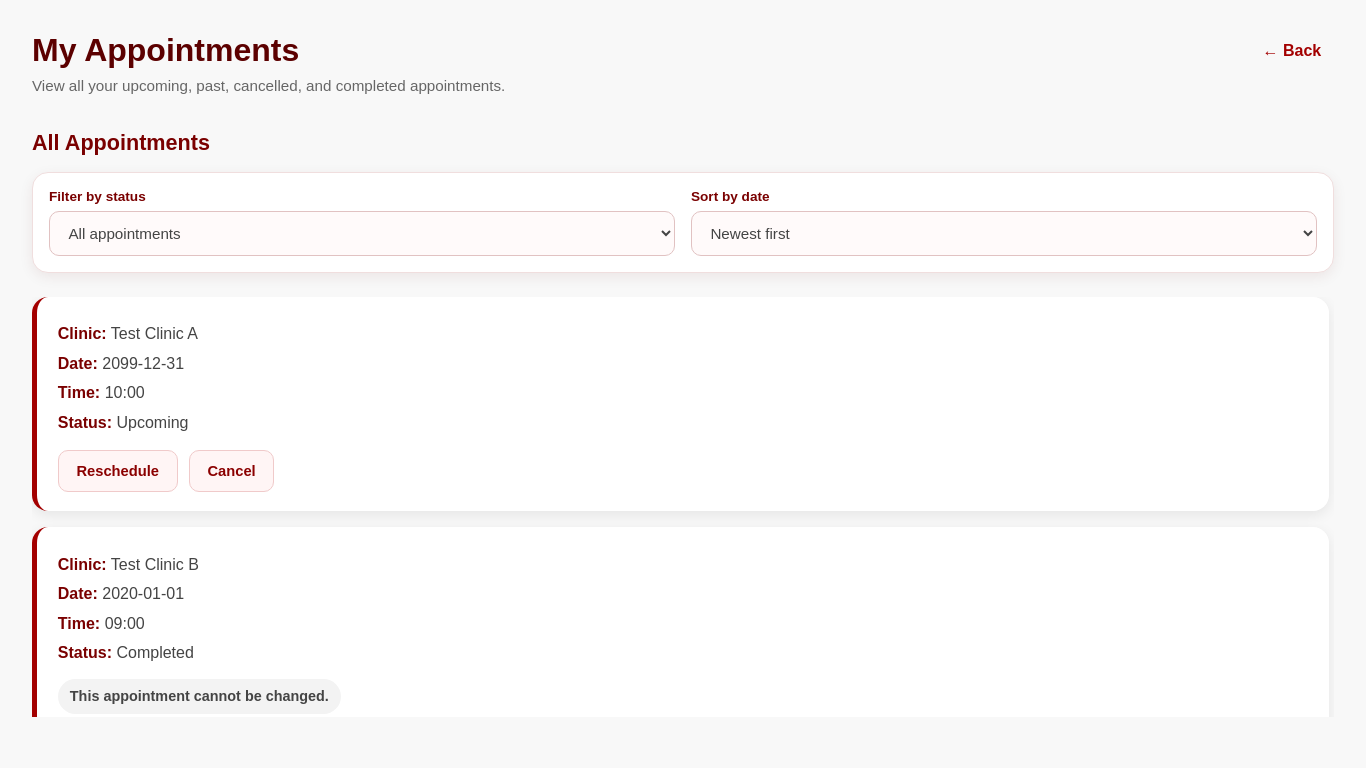
Test: AppointmentsPage › cancel modal closes when overlay is clicked
Click the button "Cancel" at (232, 471), box [189, 450, 274, 492]
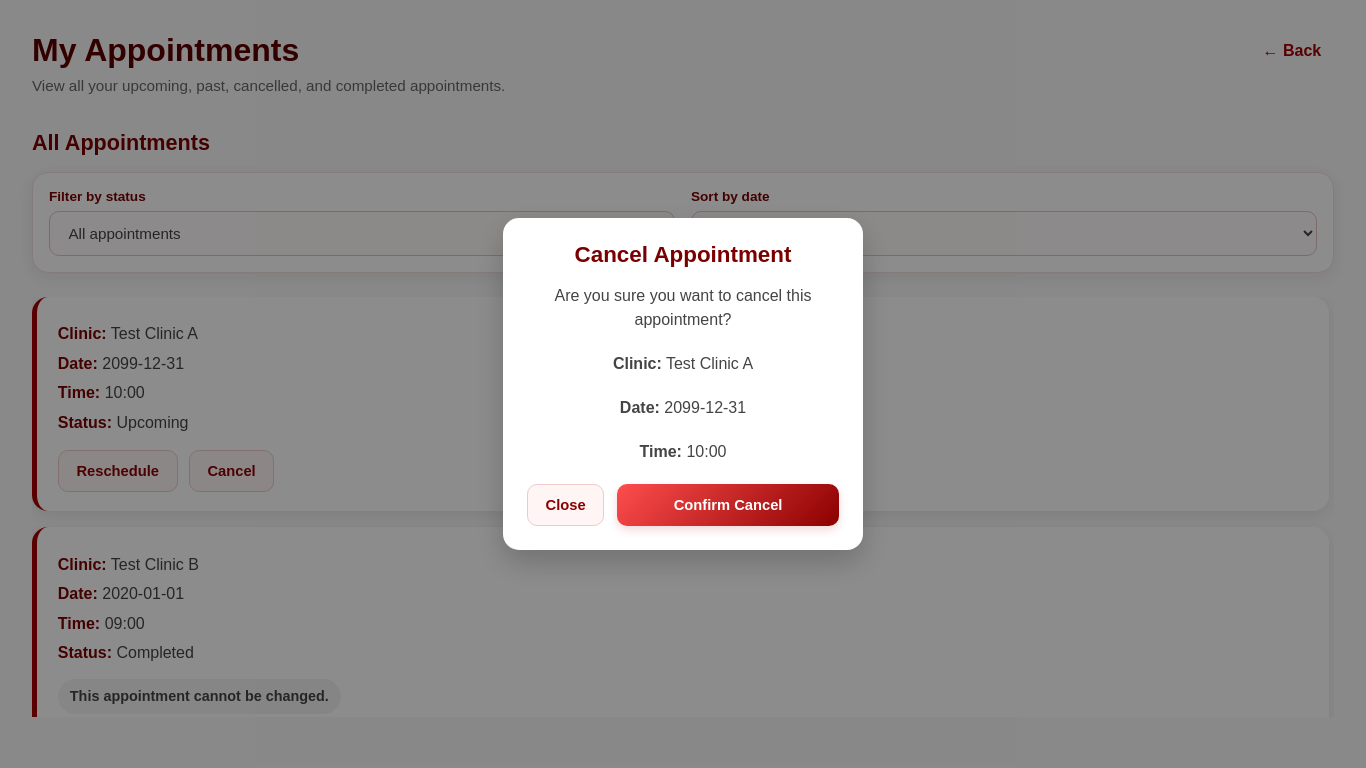
// Click the overlay (the outer section with modal-overlay class)
Click the element with class "modal-overlay" at (82, 384), box [0, 0, 1365, 767]
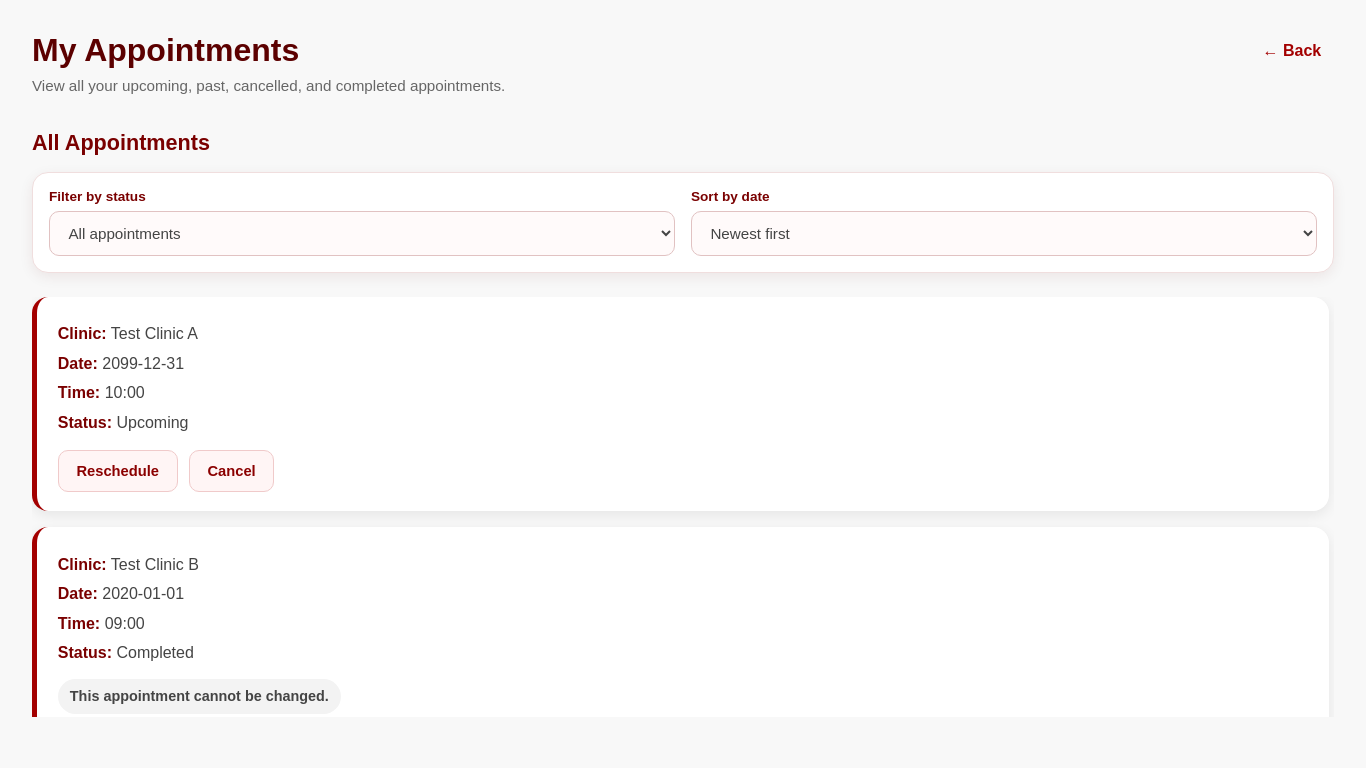
Result: the text "Are you sure you want to cancel" is gone
